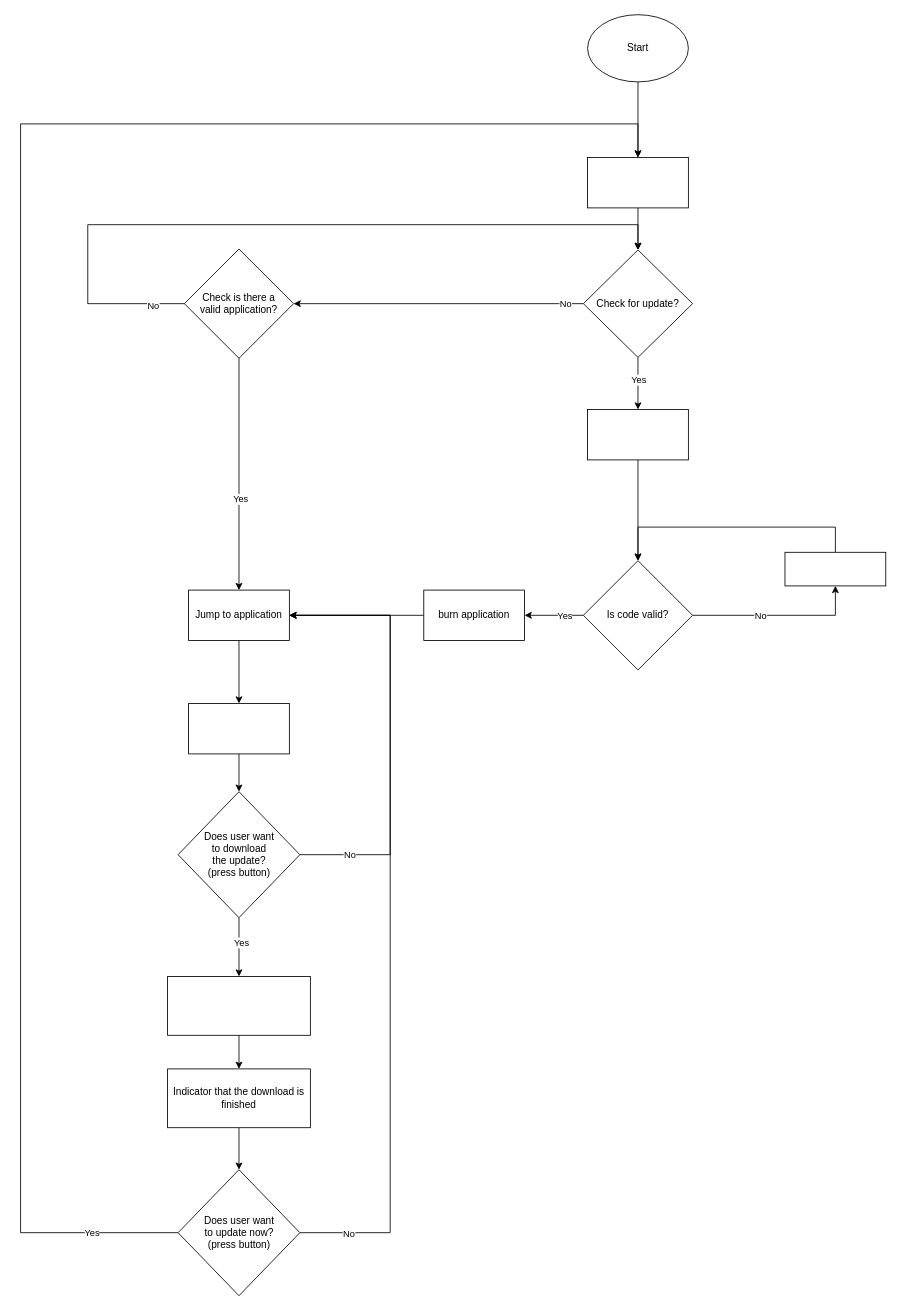
This 900x1310 diagram has some shape labels left out. The shapes that lost their labels are listed below. From the top down, each one's box as (x1, y1, x2, y2) in pixels, then its label:
(587, 157, 688, 208): Bootloader
(587, 409, 688, 460): Send it via USART
(784, 551, 886, 586): Resend it
(188, 703, 289, 754): Interrupt indicate that there is a new update
(167, 976, 310, 1035): Continue in application while downloading it (erasing the other bank)
